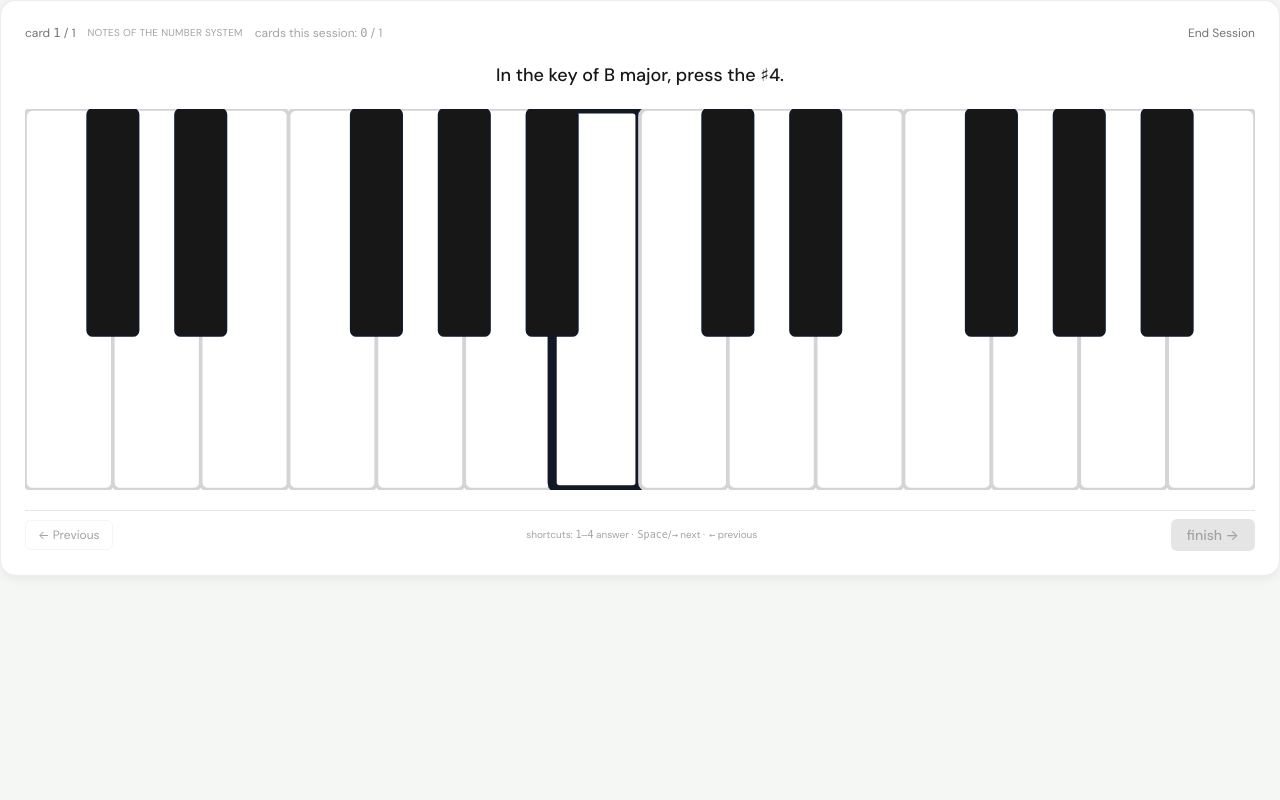
Test: the correct-answer line after a wrong press › and on a key where the sibling supplies the gloss
Click the icon named "Answer keyboard" at (640,299), box [25,109,1255,490]
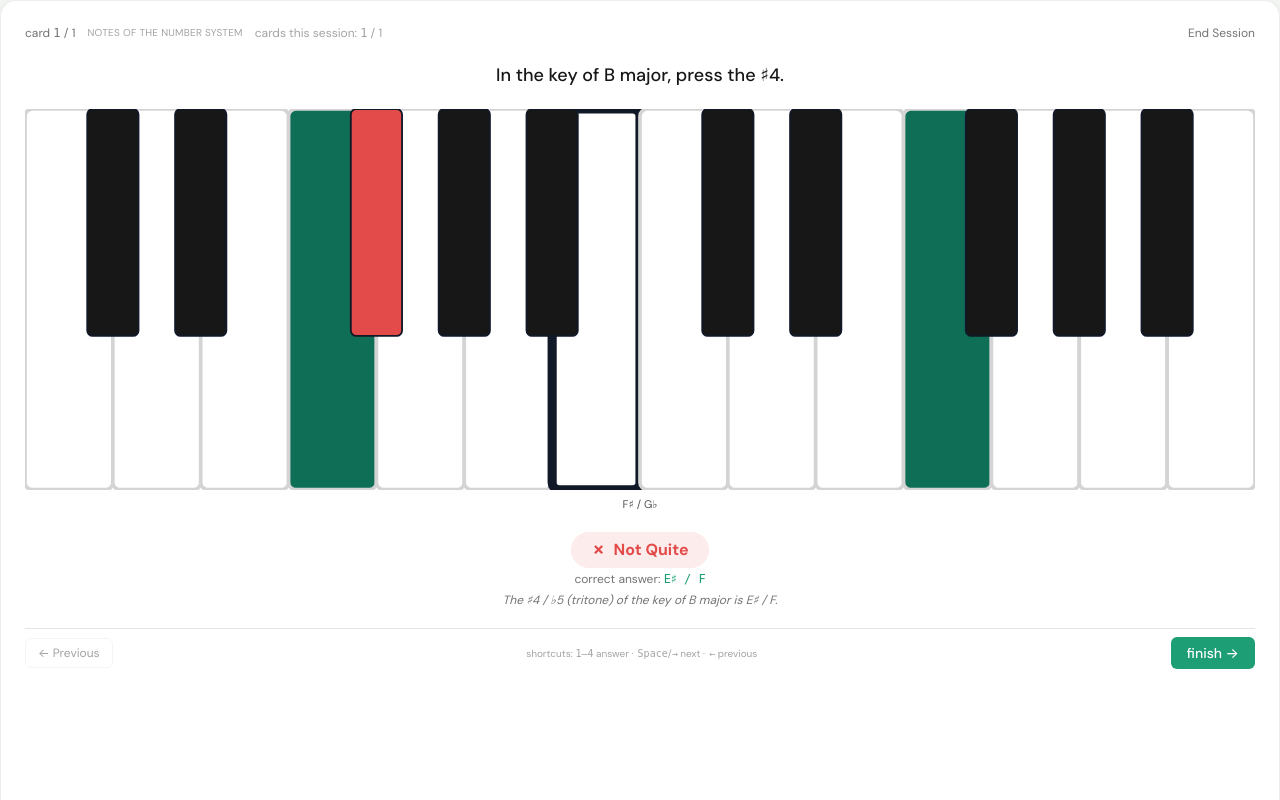
Now the text with test id "correct-answer" reads "E♯ / F", box [664,572,706,586]
